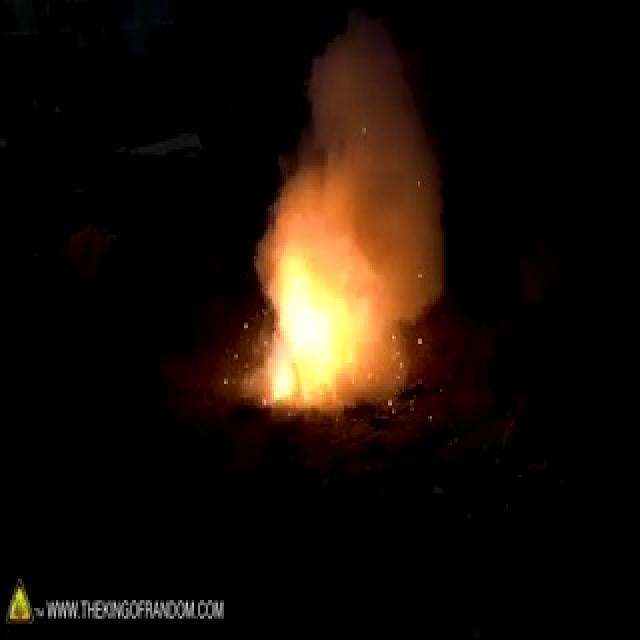fire: (249, 251, 375, 416)
